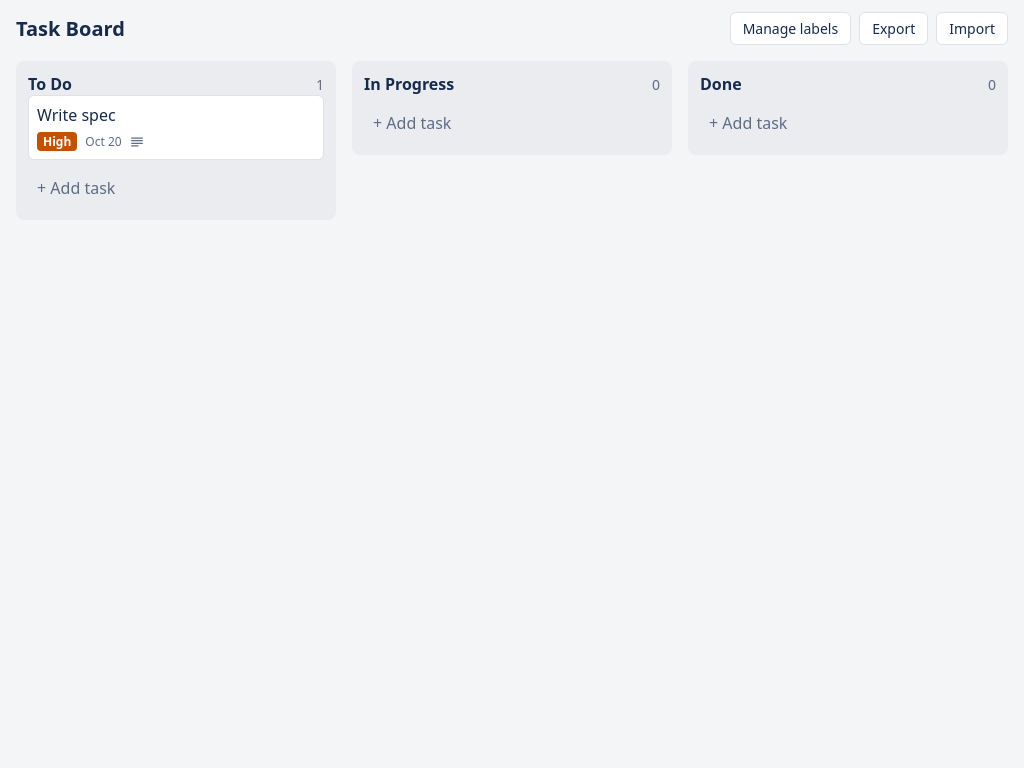
it: Opening a Task › shows every field of the clicked Task in a modal
This screenshot has width=1024, height=768.
Click the heading "Write spec" at [76, 115], box [37,104,116,126]
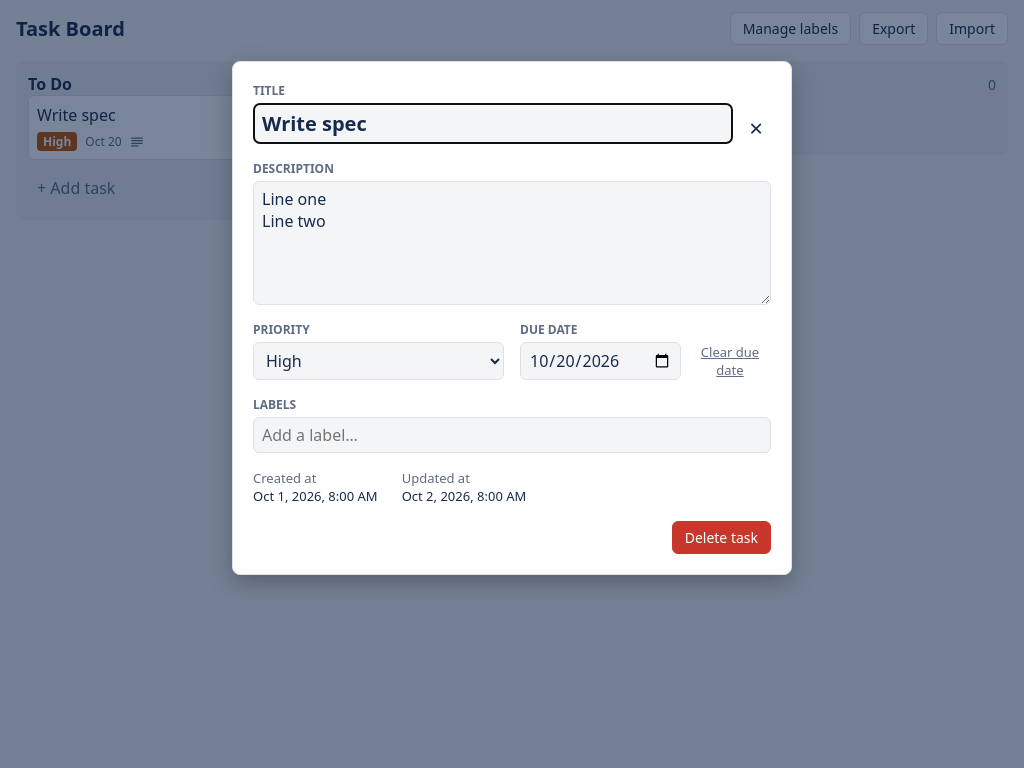
Now the field labelled "Title" holds "Write spec", box [253,103,733,144]
Now the dropdown labelled "Priority" shows "High", box [253,342,504,380]
Now the date field labelled "Due date" holds "2026-10-20", box [520,342,681,380]
